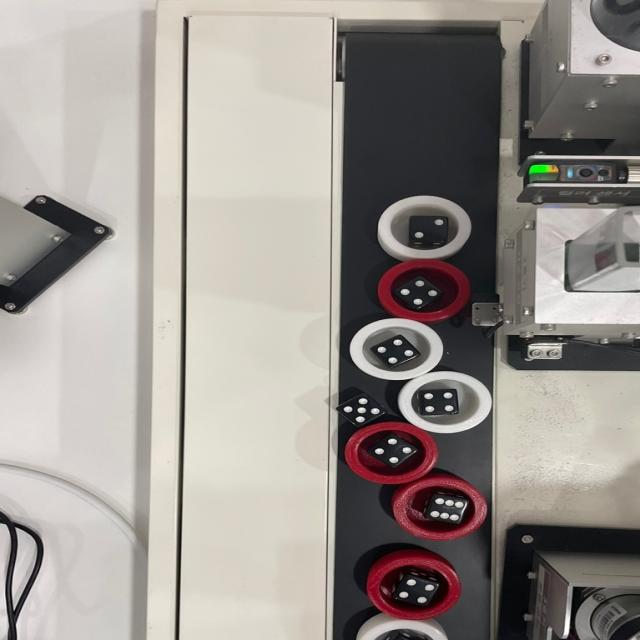DICE2: (409, 214, 450, 241)
DICE4: (370, 435, 417, 464), (375, 334, 419, 364), (401, 278, 442, 306), (398, 578, 438, 604), (421, 390, 454, 412)
DICE5: (340, 394, 384, 424)
DICE6: (426, 496, 468, 522)
RedChip: (368, 555, 464, 618), (345, 422, 442, 483), (378, 258, 471, 320), (396, 481, 487, 542)
WhiteChip: (377, 193, 475, 260), (350, 318, 445, 380), (397, 370, 490, 432), (354, 618, 452, 640)
